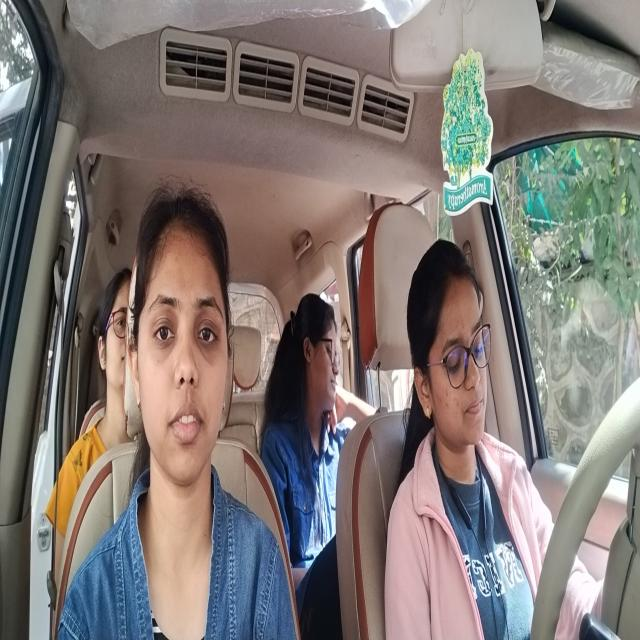drowsy: (406, 239, 496, 464)
person: (135, 189, 232, 489), (286, 283, 343, 421), (94, 266, 136, 421)
